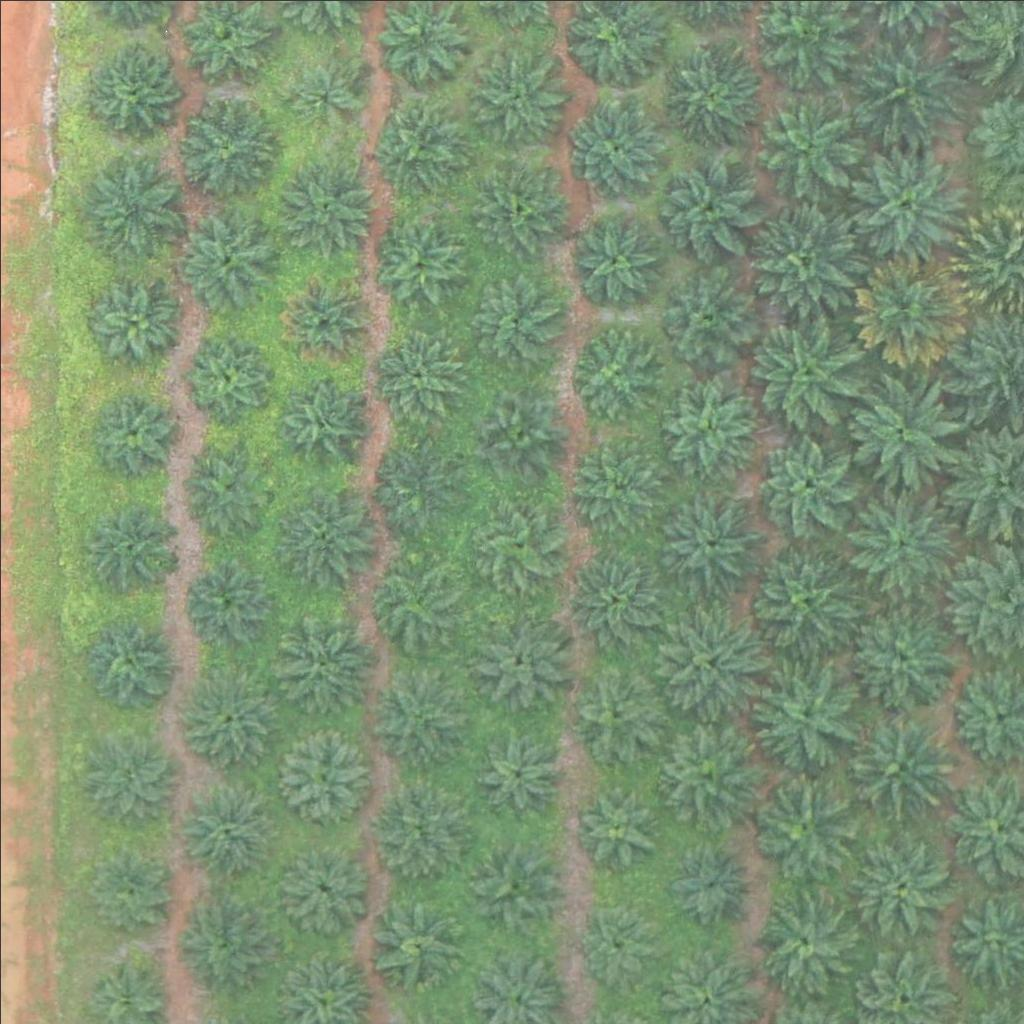Kelapa_Sawit: (750, 657, 863, 770), (652, 605, 765, 718), (649, 485, 762, 598), (748, 84, 861, 197), (852, 251, 965, 364), (850, 150, 963, 263), (853, 32, 966, 145), (844, 831, 956, 944), (837, 704, 949, 817), (844, 598, 956, 711), (844, 479, 956, 592), (847, 373, 959, 486), (744, 539, 856, 652), (743, 315, 855, 428), (750, 202, 862, 315), (754, 885, 854, 986), (755, 431, 855, 532), (563, 436, 663, 537), (463, 837, 563, 938), (368, 784, 468, 885), (363, 663, 463, 764), (272, 724, 372, 825), (273, 613, 373, 714), (272, 480, 372, 581), (170, 779, 270, 880), (177, 668, 277, 769), (78, 609, 178, 710), (368, 209, 468, 310), (367, 93, 467, 194), (462, 273, 562, 374), (465, 156, 565, 257), (466, 47, 566, 148), (566, 96, 666, 197), (656, 265, 756, 366), (658, 156, 758, 257), (660, 40, 760, 141), (174, 891, 274, 991), (368, 895, 468, 995), (753, 782, 853, 882), (655, 722, 755, 822), (567, 664, 667, 764), (469, 616, 569, 716), (360, 555, 460, 655), (361, 435, 461, 535), (83, 160, 183, 260), (178, 208, 278, 308), (176, 94, 276, 194), (273, 156, 373, 256), (278, 840, 366, 929), (473, 727, 561, 815), (474, 505, 562, 593), (471, 386, 559, 474), (184, 557, 272, 645), (82, 501, 170, 589), (86, 387, 174, 475), (85, 277, 173, 365), (371, 330, 459, 418), (663, 380, 750, 468), (568, 556, 655, 644), (181, 445, 268, 533), (85, 847, 172, 935), (85, 732, 172, 820), (276, 373, 363, 461), (86, 40, 173, 128), (184, 334, 271, 422), (280, 276, 367, 364), (572, 327, 659, 415), (569, 212, 656, 300), (286, 52, 361, 128), (670, 844, 745, 920), (576, 791, 651, 867), (581, 900, 656, 975)
